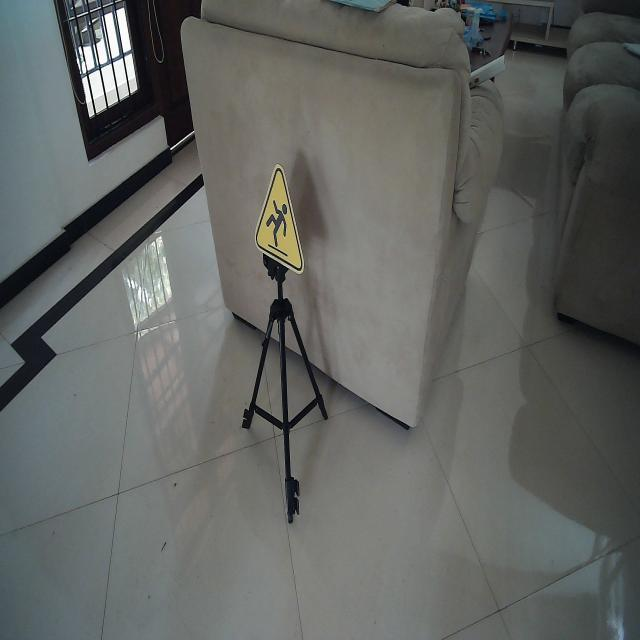slippery_sign: (253, 162, 306, 278)
